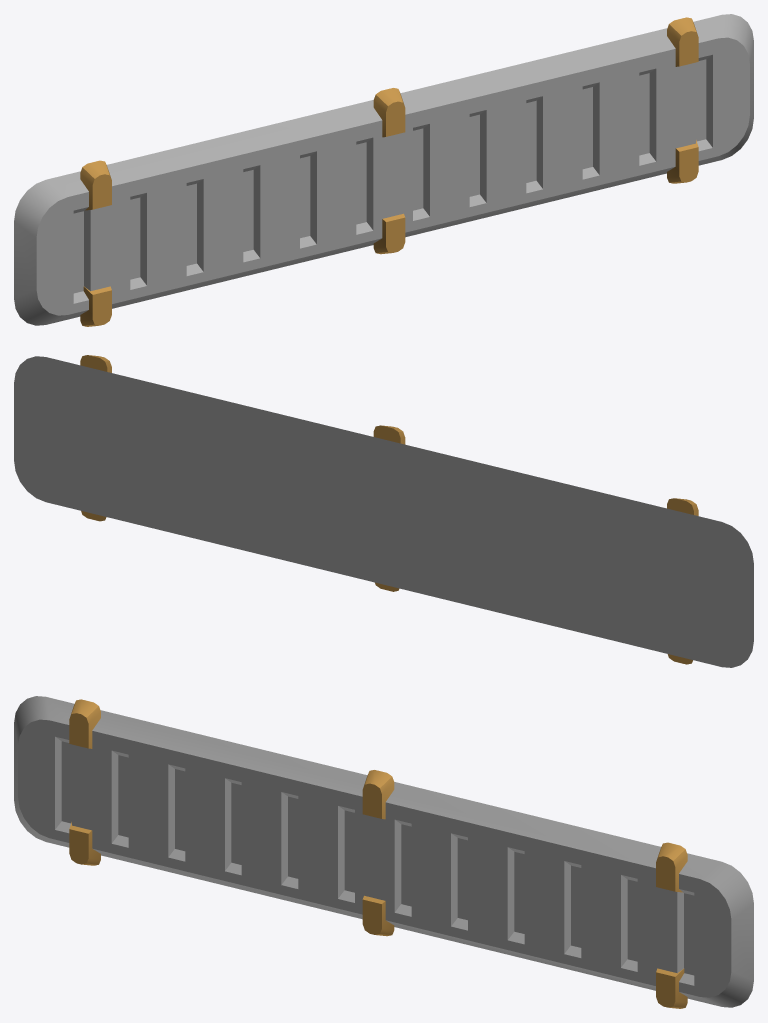
Rendered from Details_Vent_3.gltf.
The picture shows the model from 3 angles, top to bottom: view 1: azimuth 30°, elevation 25°; view 2: azimuth 150°, elevation 25°; view 3: azimuth 330°, elevation 25°; orthographic projection.
Parts seen in each view (by area): view 1: Details_Vent_3; view 2: Details_Vent_3; view 3: Details_Vent_3.
Boxes of the visible parts, x1,y1,x2,y2 form: Details_Vent_3: (14, 14, 753, 326); Details_Vent_3: (14, 355, 753, 667); Details_Vent_3: (14, 696, 753, 1008).
Size of the model in its own units: 1.05 by 0.2235 by 0.0287.
